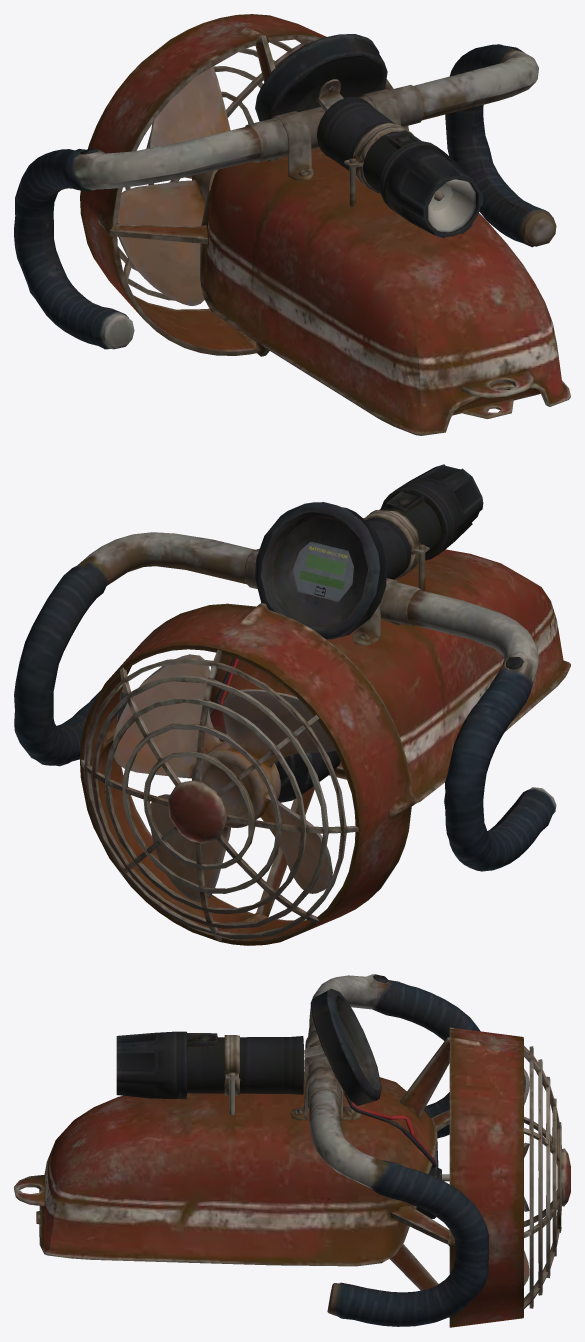
The model's file is dpv.deployed.glb.
The picture shows the model from 3 angles, top to bottom: view 1: azimuth 30°, elevation 25°; view 2: azimuth 150°, elevation 25°; view 3: azimuth 270°, elevation 25°; orthographic projection. The views are drawn at different scales.
Visible parts, largest first — view 1: DPV_LOD0, DPVFan_LOD0; view 2: DPV_LOD0, DPVFan_LOD0; view 3: DPV_LOD0.
Part boxes in pixels (left/top/right/bottom): DPV_LOD0: left=14, top=14, right=570, bottom=435; DPVFan_LOD0: left=117, top=67, right=230, bottom=305; DPV_LOD0: left=14, top=464, right=570, bottom=945; DPVFan_LOD0: left=113, top=654, right=335, bottom=901; DPV_LOD0: left=14, top=974, right=570, bottom=1327.
Size of the model in its own units: 0.4368 by 0.3315 by 0.5196.
1 material, 1 textured.
